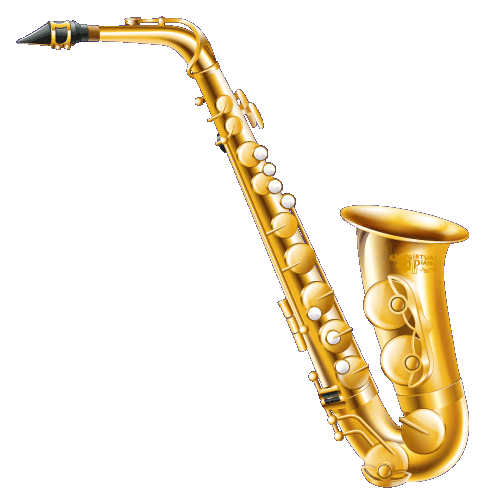Saxophone: (1, 4, 483, 477)
